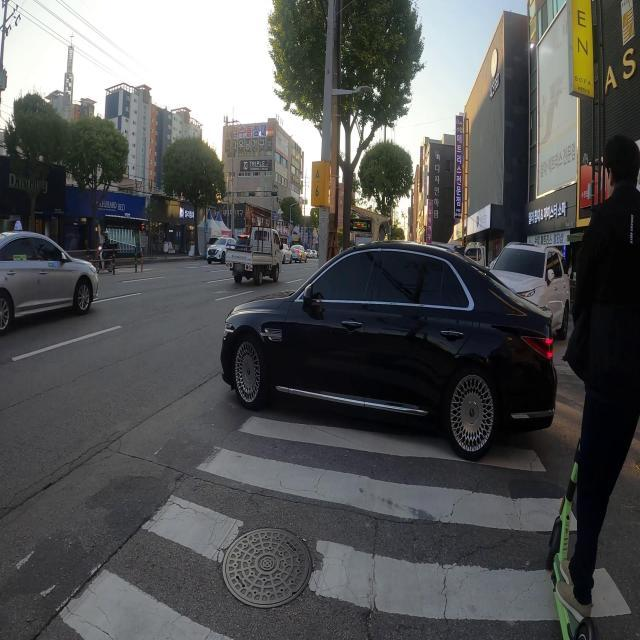crosswalk: (36, 355, 640, 640)
